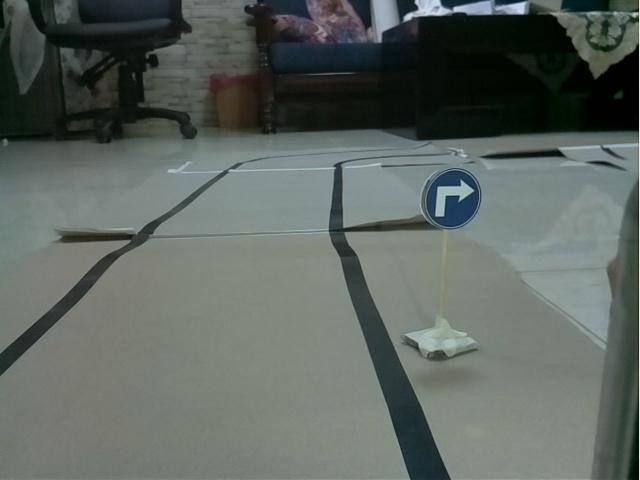turn: (420, 165, 483, 236)
